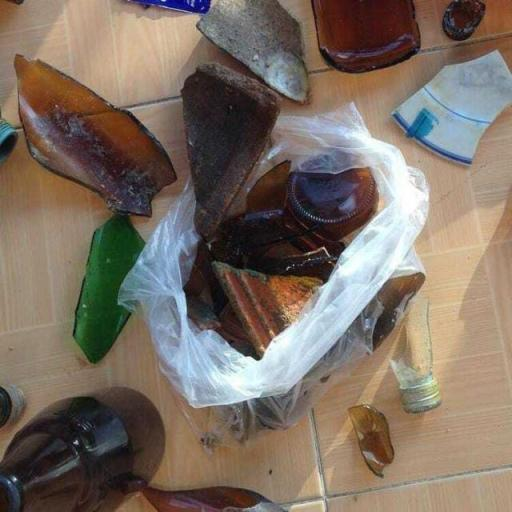glass: (9, 48, 187, 230), (0, 381, 175, 512), (50, 198, 165, 372), (124, 464, 288, 512), (342, 394, 403, 487)
